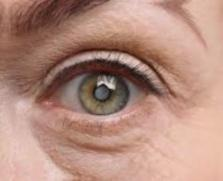eye: (80, 72, 128, 116)
